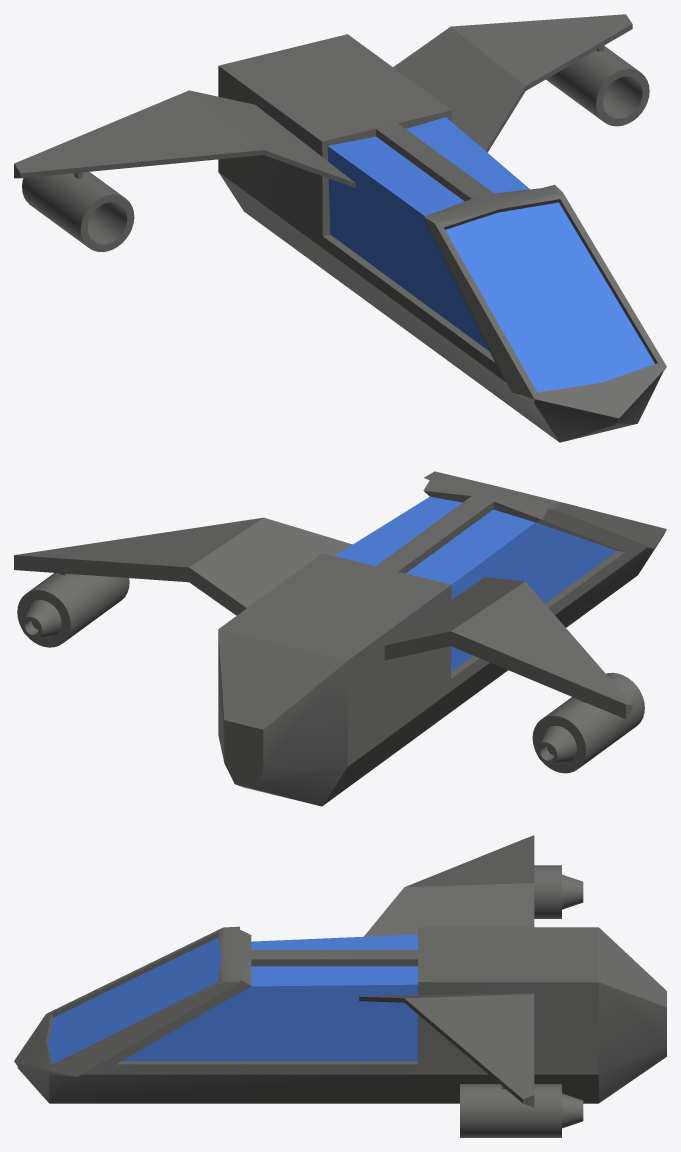
The model's file is SpaceShip1Model.fbx.
3 views of the same model, one above another, from view 1: azimuth 30°, elevation 25°; view 2: azimuth 150°, elevation 25°; view 3: azimuth 270°, elevation 25° (orthographic). The views are drawn at different scales.
Parts seen in each view (by area): view 1: Cube; view 2: Cube; view 3: Cube.
Boxes of the visible parts, x1,y1,x2,y2 form: Cube: [14, 14, 666, 442]; Cube: [14, 471, 666, 806]; Cube: [14, 835, 666, 1137].
Size of the model in its own units: 1085 by 289 by 1152.
